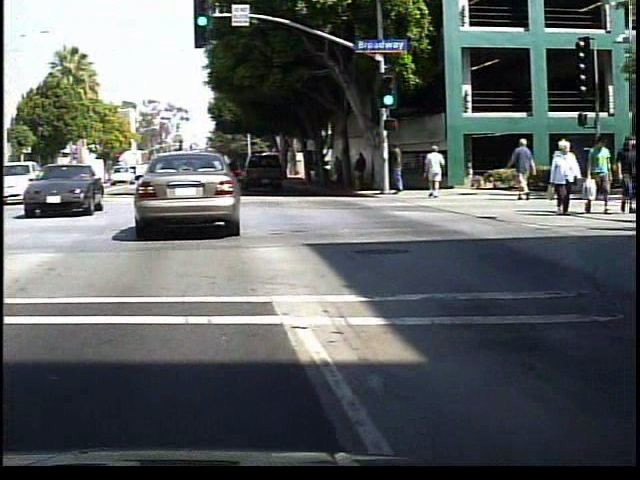person: (587, 136, 619, 216), (553, 138, 584, 218), (512, 138, 545, 202), (618, 129, 640, 216), (425, 142, 450, 200), (391, 139, 412, 200), (357, 148, 375, 192), (337, 152, 353, 189)
